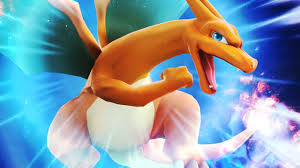charizard: (8, 1, 278, 166)
